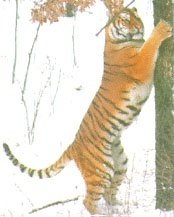tigre: (9, 5, 172, 215)
